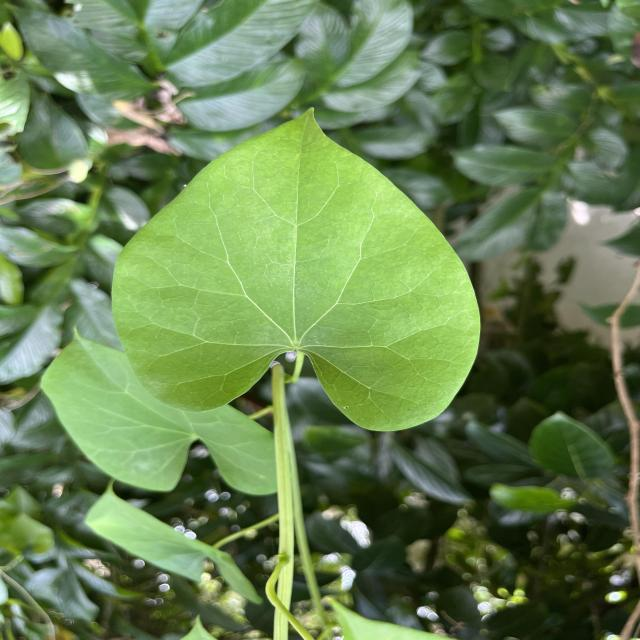Tinospora cordifolia: (109, 102, 486, 436)
